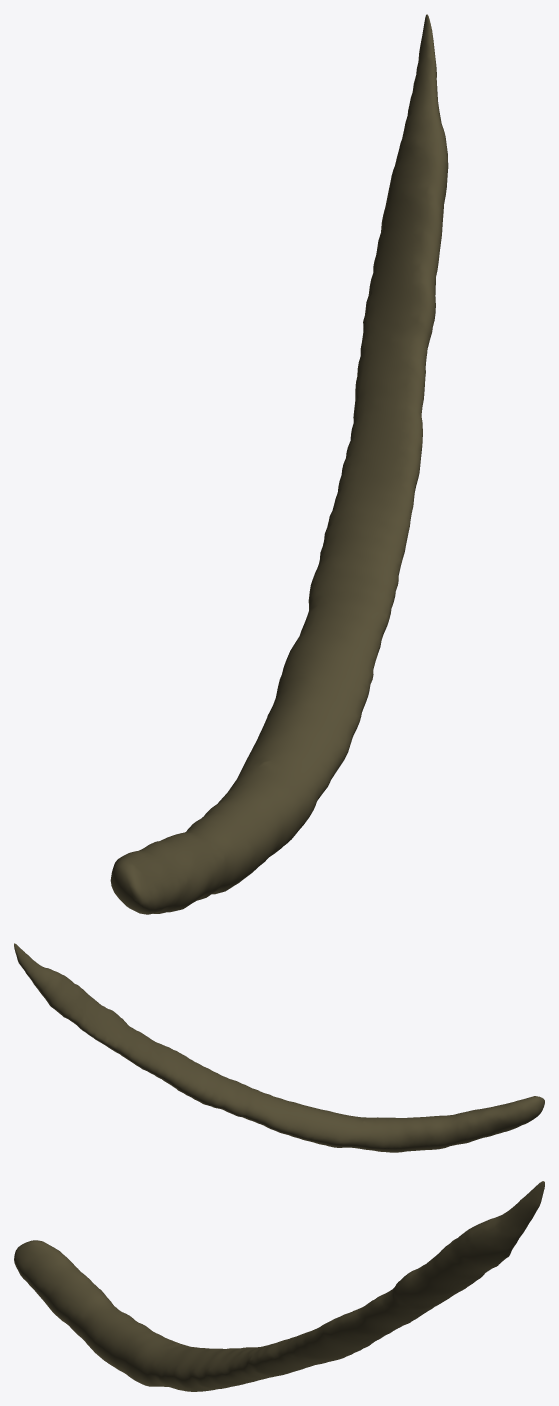
Rendered from segmentations_rib_right_11_1.obj.
The picture shows the model from 3 angles, top to bottom: view 1: azimuth 30°, elevation 25°; view 2: azimuth 150°, elevation 25°; view 3: azimuth 270°, elevation 25°; orthographic projection. The views are drawn at different scales.
Parts seen in each view (by area): view 1: grp1; view 2: grp1; view 3: grp1.
Boxes of the visible parts, bbox=[...] form: grp1: bbox=[110, 14, 448, 914]; grp1: bbox=[14, 943, 544, 1152]; grp1: bbox=[14, 1181, 544, 1391].
Size of the model in its own units: 66.59 by 48.09 by 65.46.
